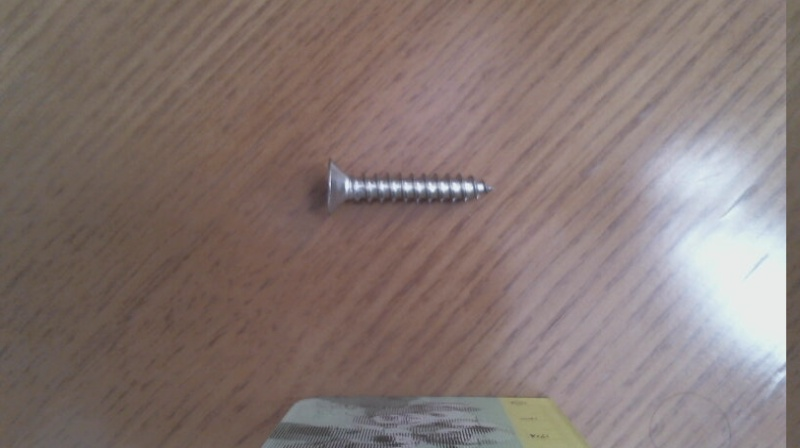S001: (319, 157, 499, 219)
